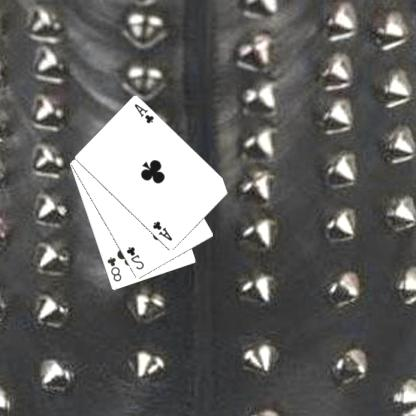2C: (125, 244, 147, 271)
8C: (106, 254, 125, 283)
AC: (133, 101, 157, 126), (152, 219, 176, 242)
